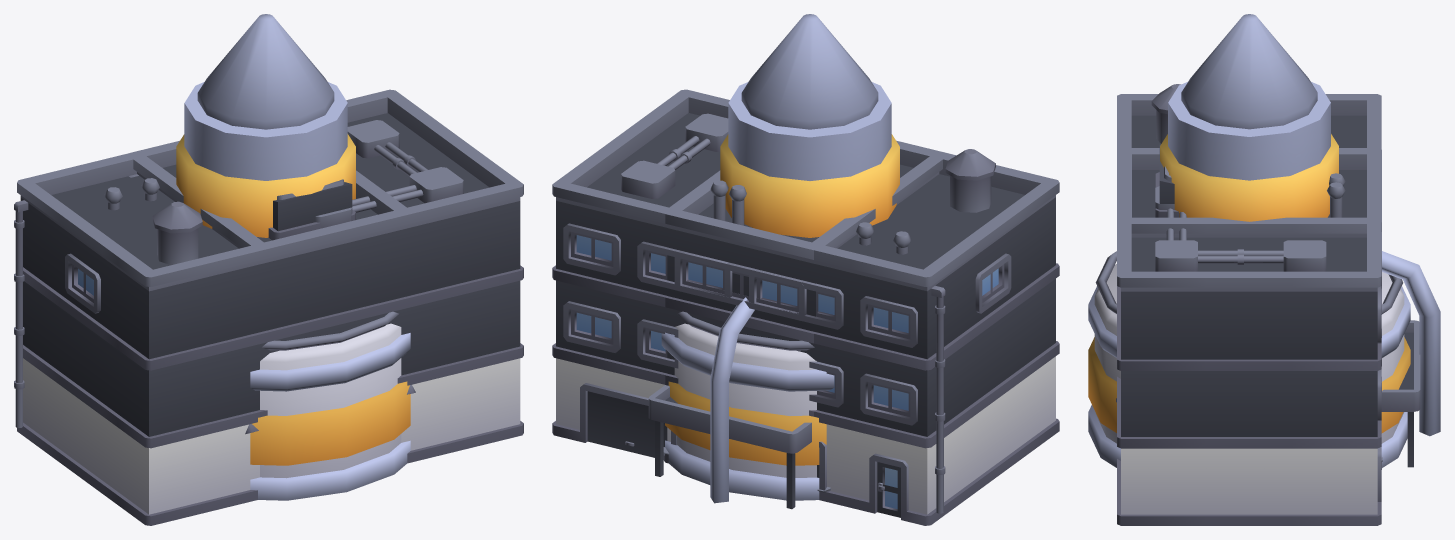
Rendered from arch_ind.glb.
3 views of the same model, side by side, from view 1: azimuth 30°, elevation 25°; view 2: azimuth 150°, elevation 25°; view 3: azimuth 270°, elevation 25° (orthographic).
Parts seen in each view (by area): view 1: building-a, detail-tank-large, chimney-large, water-tower, building-d; view 2: building-a, building-d, detail-tank-large, chimney-large, water-tower; view 3: building-a, chimney-large, detail-tank-large, building-d, water-tower.
Boxes of the visible parts, box(x1,y1,x2,y2) form: building-a: box(14, 89, 523, 525); detail-tank-large: box(250, 311, 410, 500); chimney-large: box(176, 82, 355, 237); water-tower: box(197, 14, 334, 129); building-d: box(128, 140, 411, 452); building-a: box(552, 89, 1059, 525); building-d: box(648, 141, 946, 509); detail-tank-large: box(661, 297, 834, 503); chimney-large: box(720, 82, 899, 237); water-tower: box(741, 14, 878, 129); building-a: box(1117, 84, 1381, 525); chimney-large: box(1160, 82, 1338, 221); detail-tank-large: box(1088, 251, 1440, 467); building-d: box(1117, 145, 1420, 469); water-tower: box(1181, 14, 1317, 129).
Size of the model in its own units: 2.08 by 2.14 by 1.65.
1 material, 1 textured.
